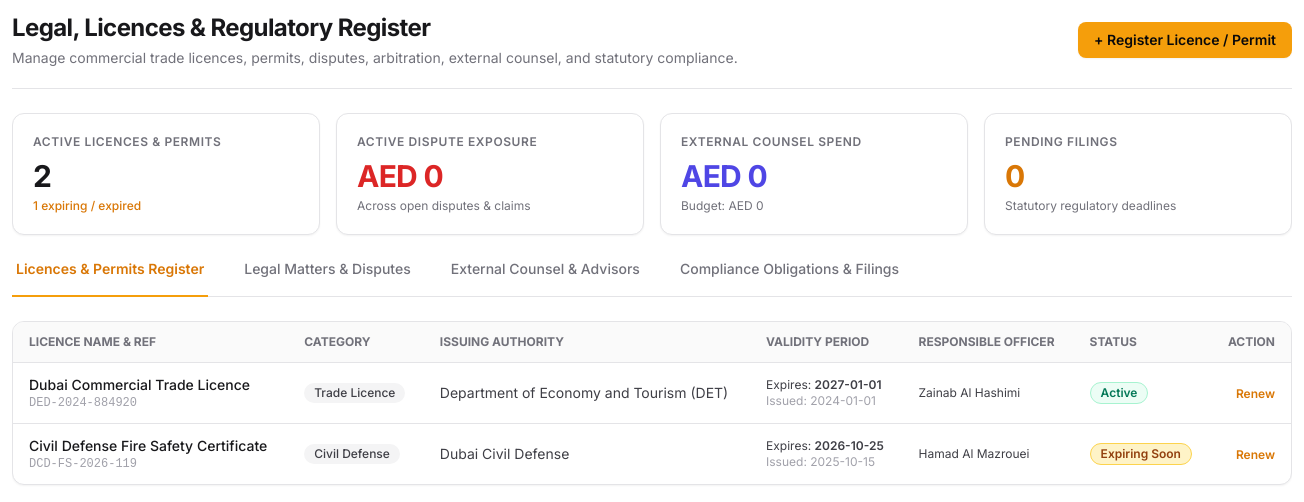
it: LegalPage › navigates to the Legal Matters tab and shows disputes
The width and height of the screenshot is (1304, 502).
Click the button "Legal Matters & Disputes" at (327, 278), box [240,259,415,297]
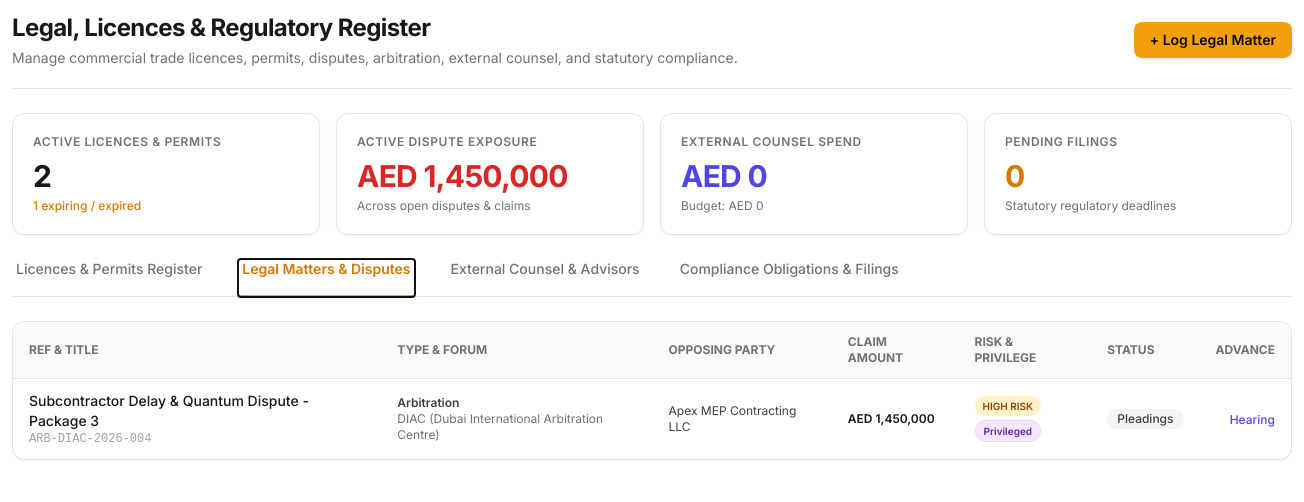
Expected: the text "Subcontractor Delay & Quantum Dispute - Package 3" is shown, [29,392,309,429]
Expected: the text "ARB-DIAC-2026-004" is shown, [29,432,151,446]
Expected: the text "Apex MEP Contracting LLC" is shown, [653,378,832,459]
